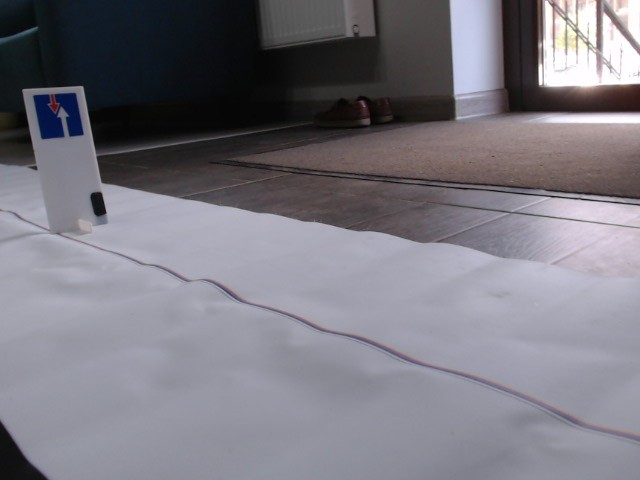priority_movement: (33, 91, 86, 140)
